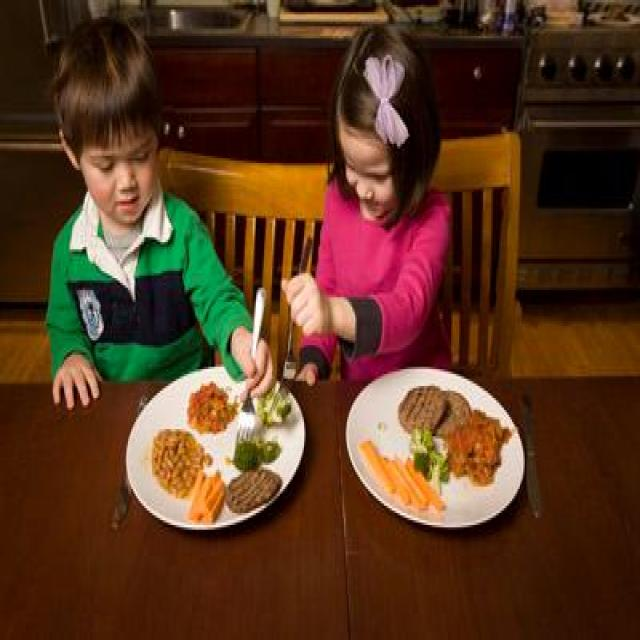child: (43, 14, 266, 417), (272, 19, 454, 427)
